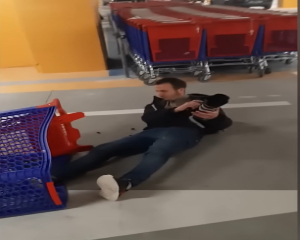fall: (66, 69, 252, 203)
